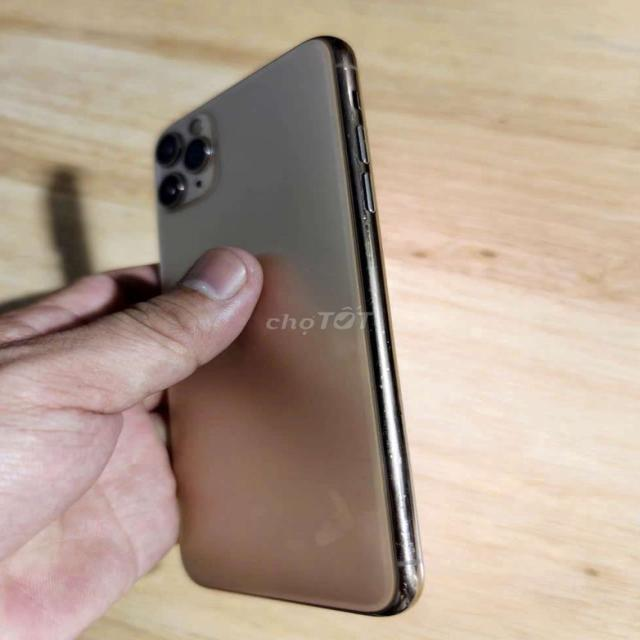scratch: (393, 484, 415, 552), (366, 360, 407, 396), (386, 403, 406, 438), (385, 446, 408, 472), (383, 326, 401, 354), (357, 211, 381, 230), (339, 131, 357, 141)
